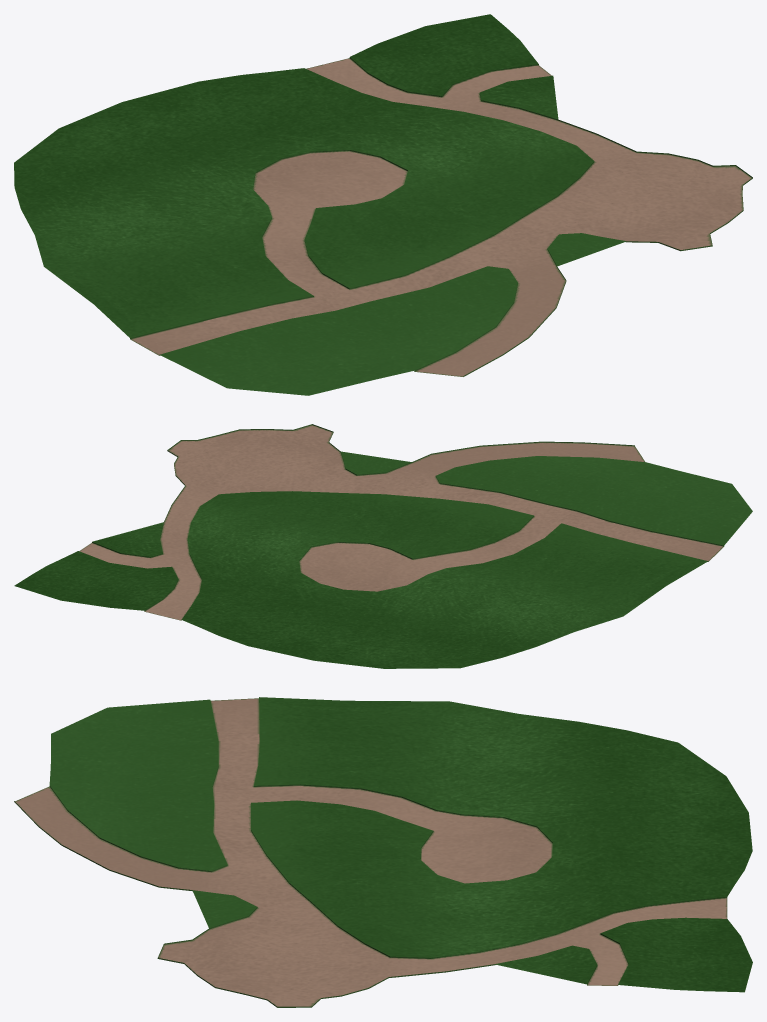
Rendered from gg_Graveyard.FBX.
3 renders of one model, top to bottom at view 1: azimuth 30°, elevation 25°; view 2: azimuth 150°, elevation 25°; view 3: azimuth 270°, elevation 25°, orthographic. The views are drawn at different scales.
Parts seen in each view (by area): view 1: gg_Graveyard; view 2: gg_Graveyard; view 3: gg_Graveyard.
Boxes of the visible parts, bbox=[...] form: gg_Graveyard: bbox=[14, 14, 752, 395]; gg_Graveyard: bbox=[14, 424, 752, 668]; gg_Graveyard: bbox=[14, 697, 752, 1007].
Size of the model in its own units: 2370 by 4 by 2391.
Materials: 1 (1 with a texture image).
